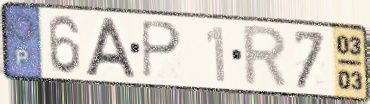1: (205, 24, 227, 84)
6: (47, 12, 82, 77)
7: (293, 29, 327, 90)
A: (83, 16, 139, 81)
P: (139, 18, 184, 81)
R: (242, 24, 291, 91)
